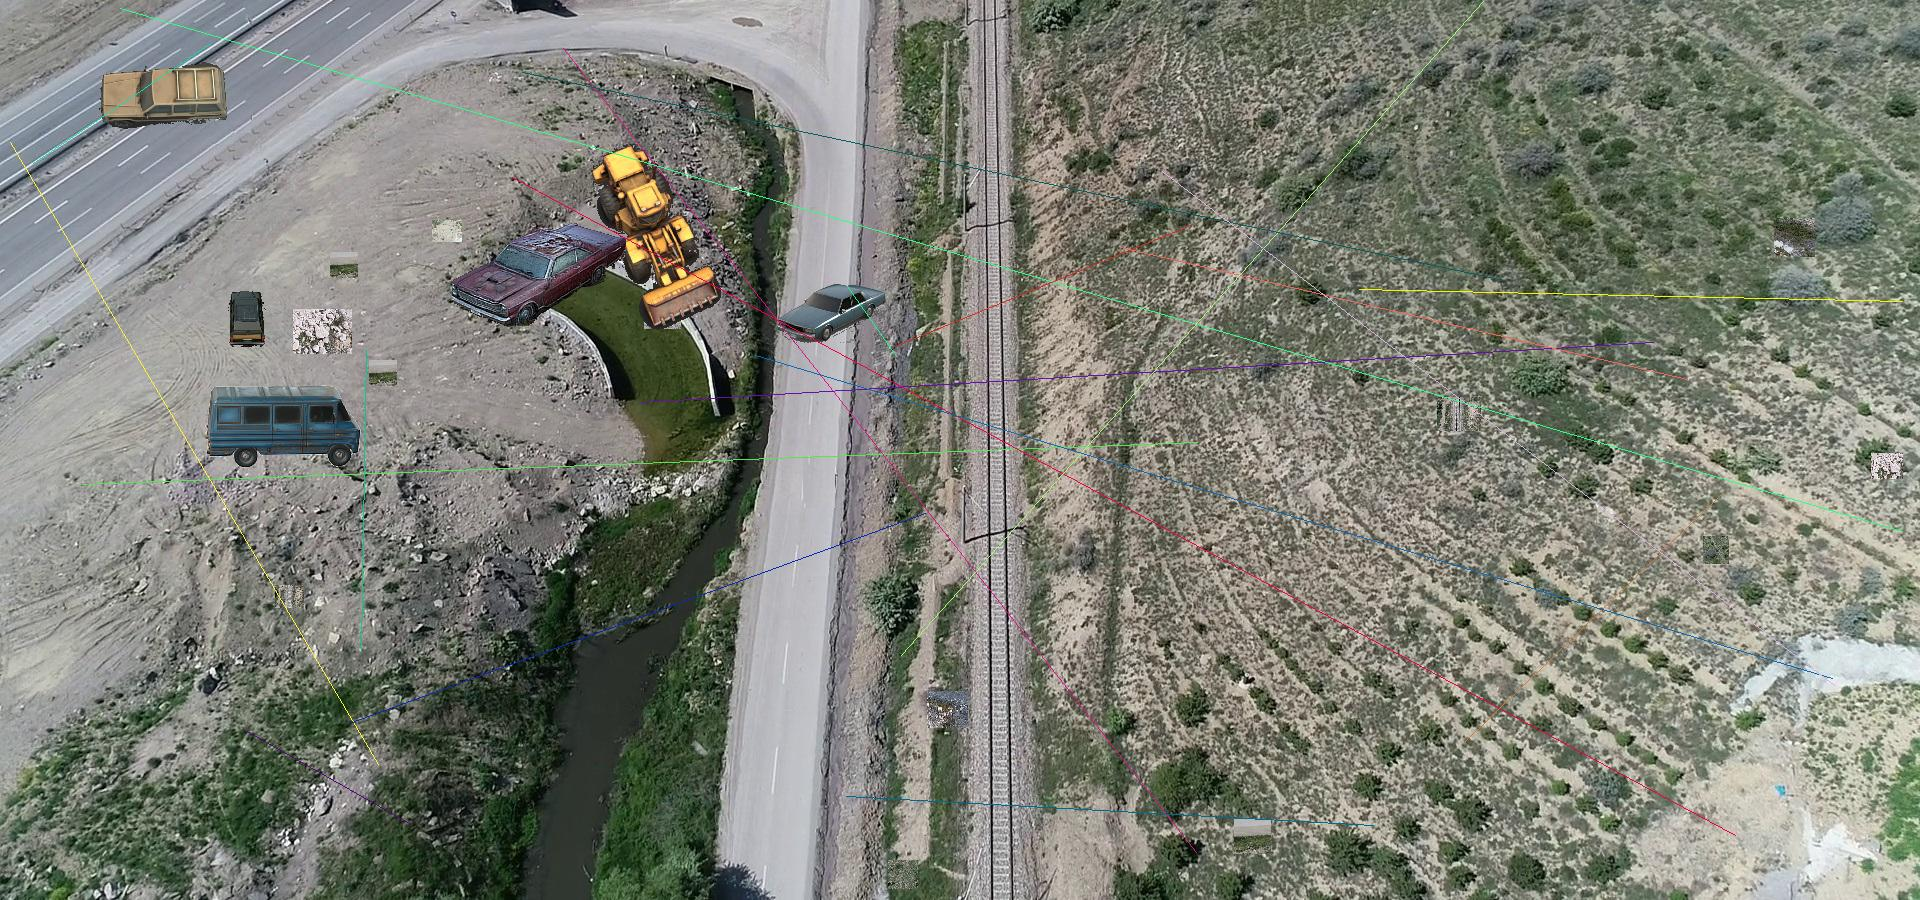arac: (576, 144, 733, 331), (452, 218, 627, 329), (204, 383, 361, 469), (99, 60, 231, 132), (778, 283, 887, 343), (227, 291, 266, 347)
